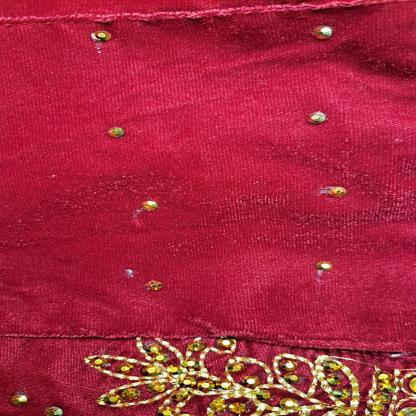spot: (88, 43, 117, 54), (131, 204, 147, 218), (314, 183, 330, 195), (120, 268, 137, 279), (316, 269, 327, 282)
